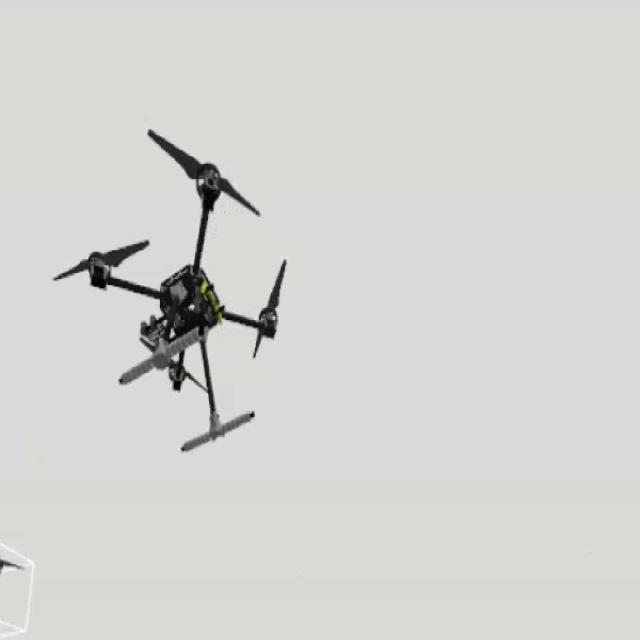drone: (53, 122, 298, 452)
